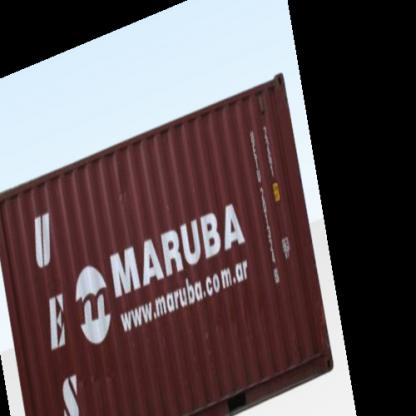Damage: (177, 315, 232, 344), (63, 364, 115, 385), (108, 182, 131, 212)
